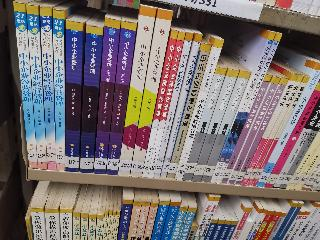book-spine: (207, 29, 277, 184), (215, 32, 281, 185), (251, 59, 320, 189), (127, 9, 174, 180), (239, 71, 304, 188), (114, 4, 157, 178), (172, 38, 224, 181), (250, 73, 310, 188), (162, 42, 212, 179), (196, 67, 253, 185), (231, 75, 289, 188), (263, 79, 320, 191), (159, 32, 202, 179), (225, 76, 281, 187), (153, 32, 194, 180), (221, 72, 273, 185), (100, 21, 137, 176), (191, 67, 240, 184), (147, 31, 185, 179), (180, 64, 226, 184), (141, 29, 177, 179), (89, 17, 121, 176), (11, 0, 38, 169), (74, 25, 104, 174), (272, 98, 320, 190), (38, 4, 61, 170), (26, 4, 48, 170), (61, 20, 85, 172), (52, 9, 65, 171)
